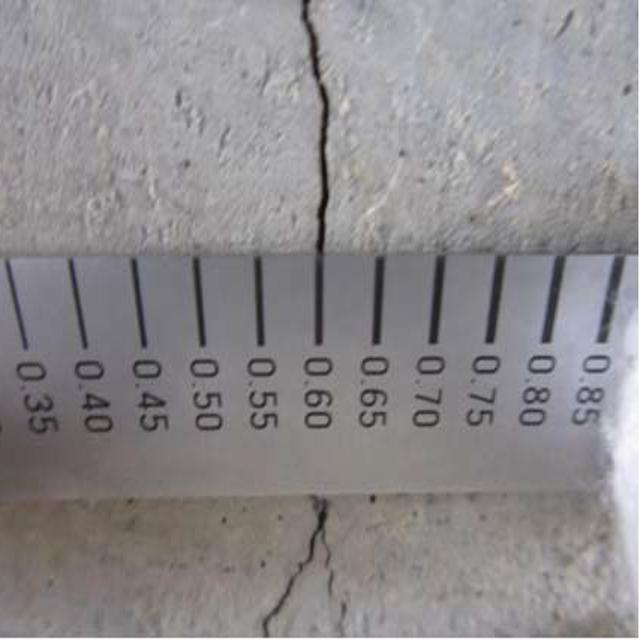crack: (248, 496, 358, 634), (290, 3, 350, 250)
